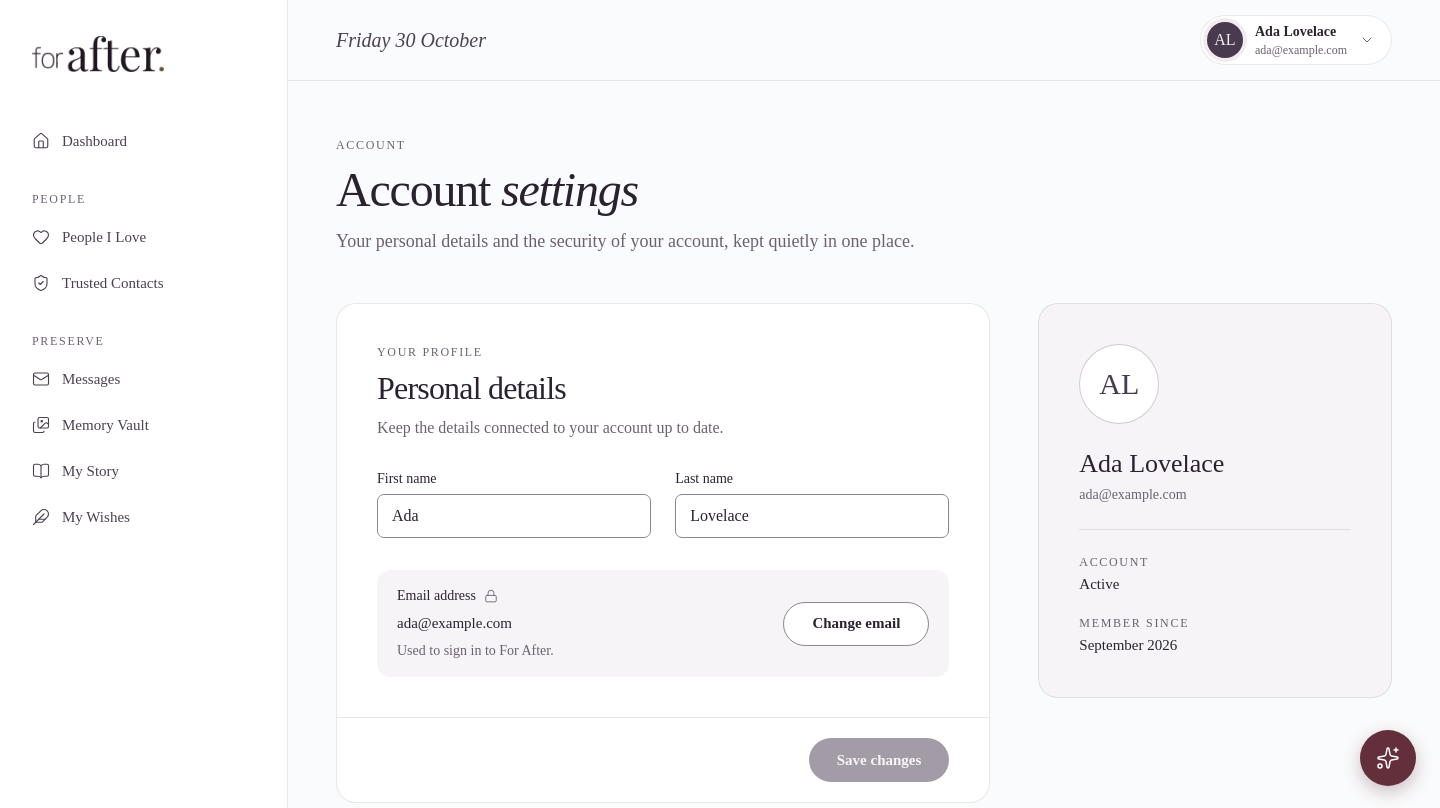
Account settings: profile › a network failure is not a sign-out: values kept, connection message shown
Expected: the element "Personal details" is shown, [336,303,990,803]
Replace the text in the field labelled "First name" with "Augusta" at [514, 516], box [377,494,651,538]
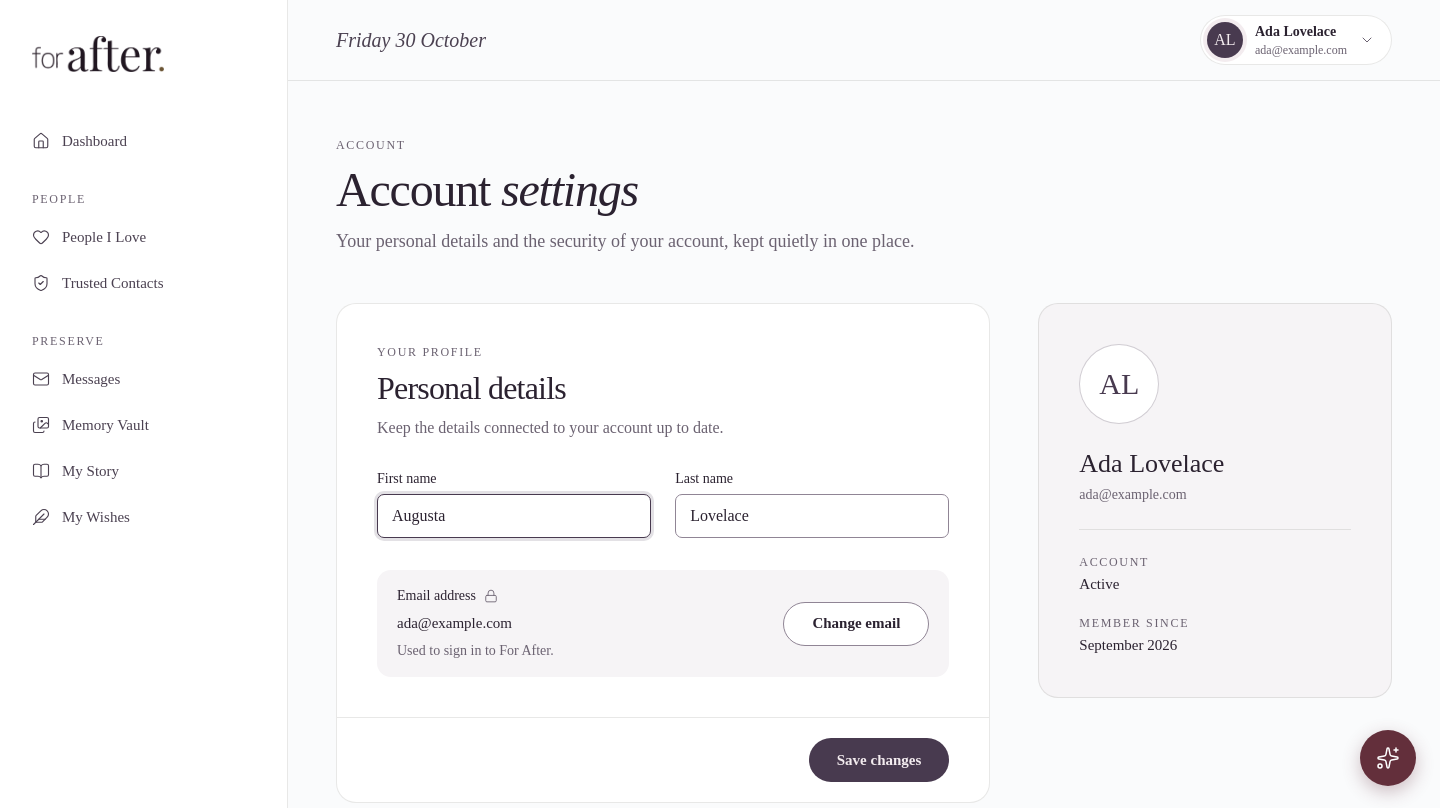
Click the button "Save changes" at [879, 760], box [809,738,949,782]
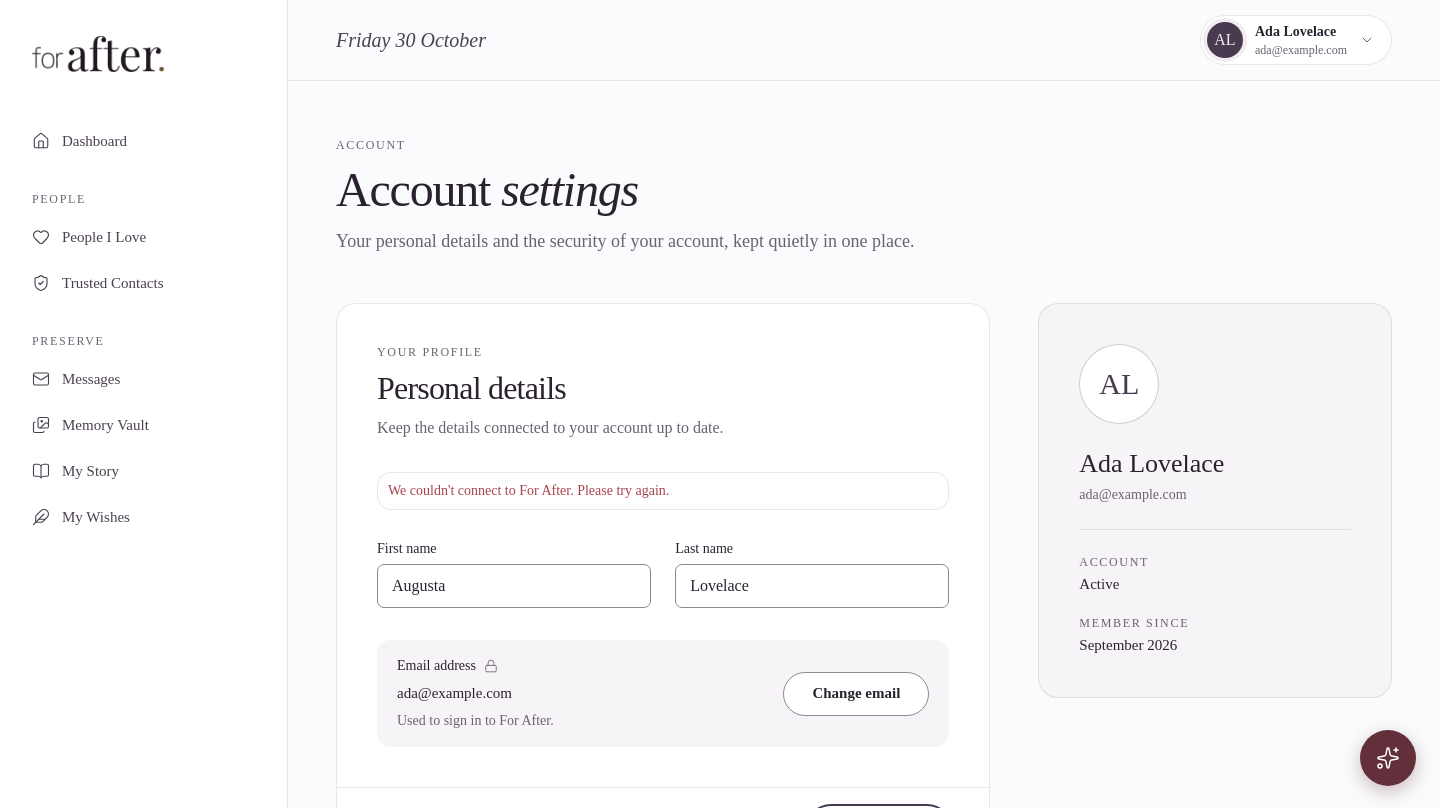
Expected: the text "We couldn't connect to For After. Please try again." is shown, [388,483,669,498]
